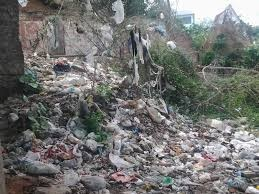rubble: (121, 108, 259, 192), (14, 96, 120, 193), (29, 55, 127, 96)
